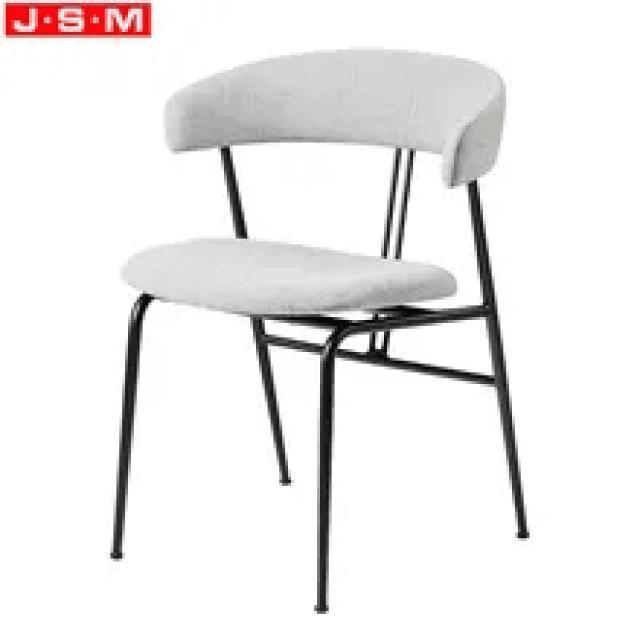chair: (106, 41, 532, 618), (122, 46, 507, 311)
